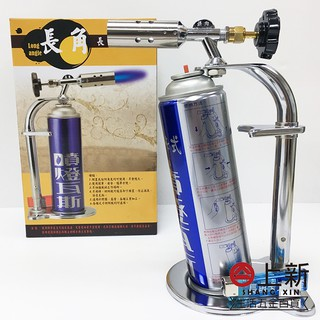gastorch: (108, 19, 318, 316), (24, 72, 112, 220)
